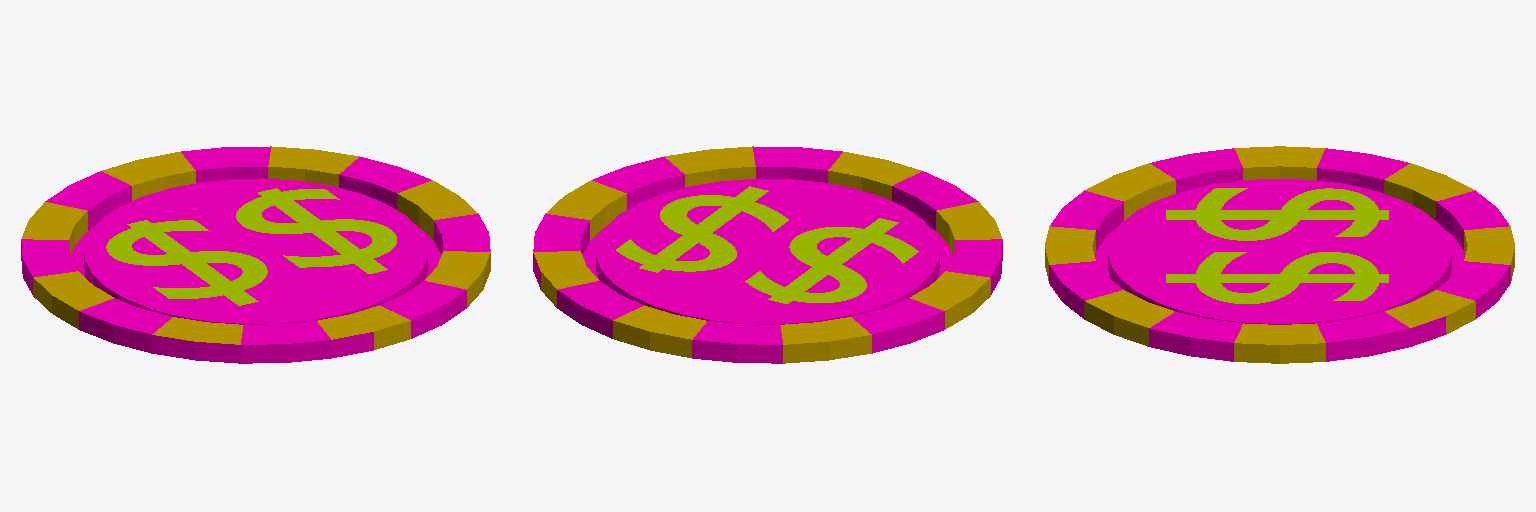
File: cheat.obj
3 renders of one model, left to right at view 1: azimuth 30°, elevation 25°; view 2: azimuth 150°, elevation 25°; view 3: azimuth 270°, elevation 25°, orthographic.
Parts seen in each view (by area): view 1: Cylinder, tekst; view 2: Cylinder, tekst; view 3: Cylinder, tekst.
Boxes of the visible parts, box(x1,y1,x2,y2) form: Cylinder: box(21, 146, 490, 363); tekst: box(106, 188, 396, 305); Cylinder: box(533, 146, 1002, 363); tekst: box(616, 186, 918, 303); Cylinder: box(1045, 146, 1514, 363); tekst: box(1166, 188, 1388, 303).
Size of the model in its own units: 1.33 by 0.0642 by 1.33.